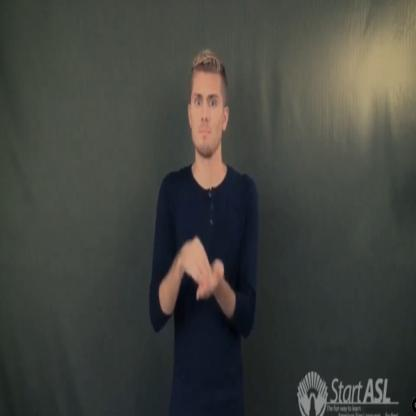Expensive: (164, 220, 234, 310)
